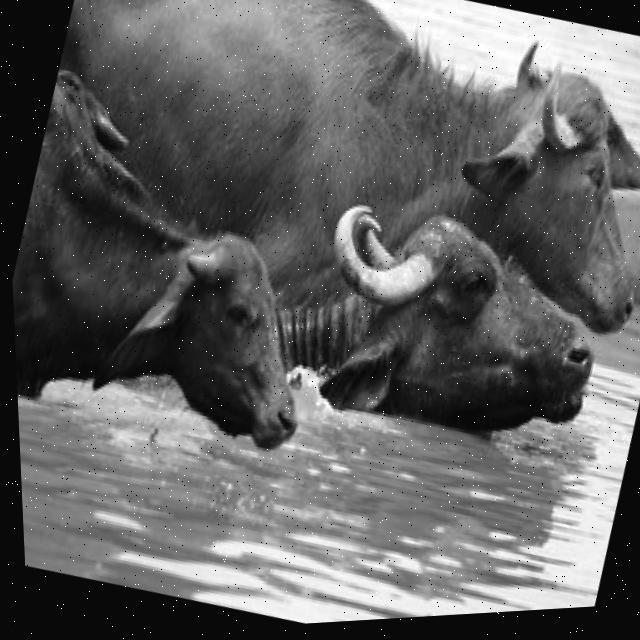Buffalo: (259, 165, 629, 479)
